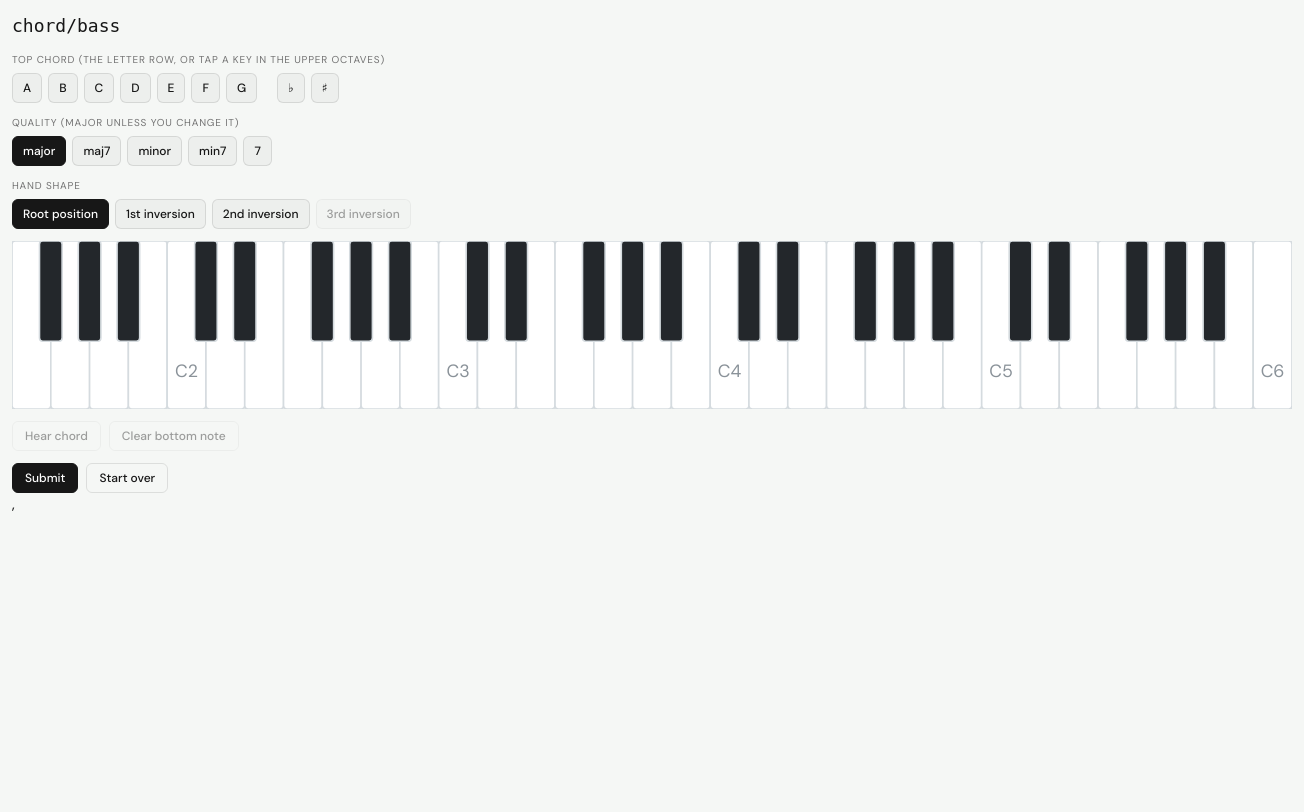
Test: the top chord comes first › starts on major, so the chord lights from one tap
Click the button "G" at (242, 88), box x1=226 y1=73 x2=257 y2=103
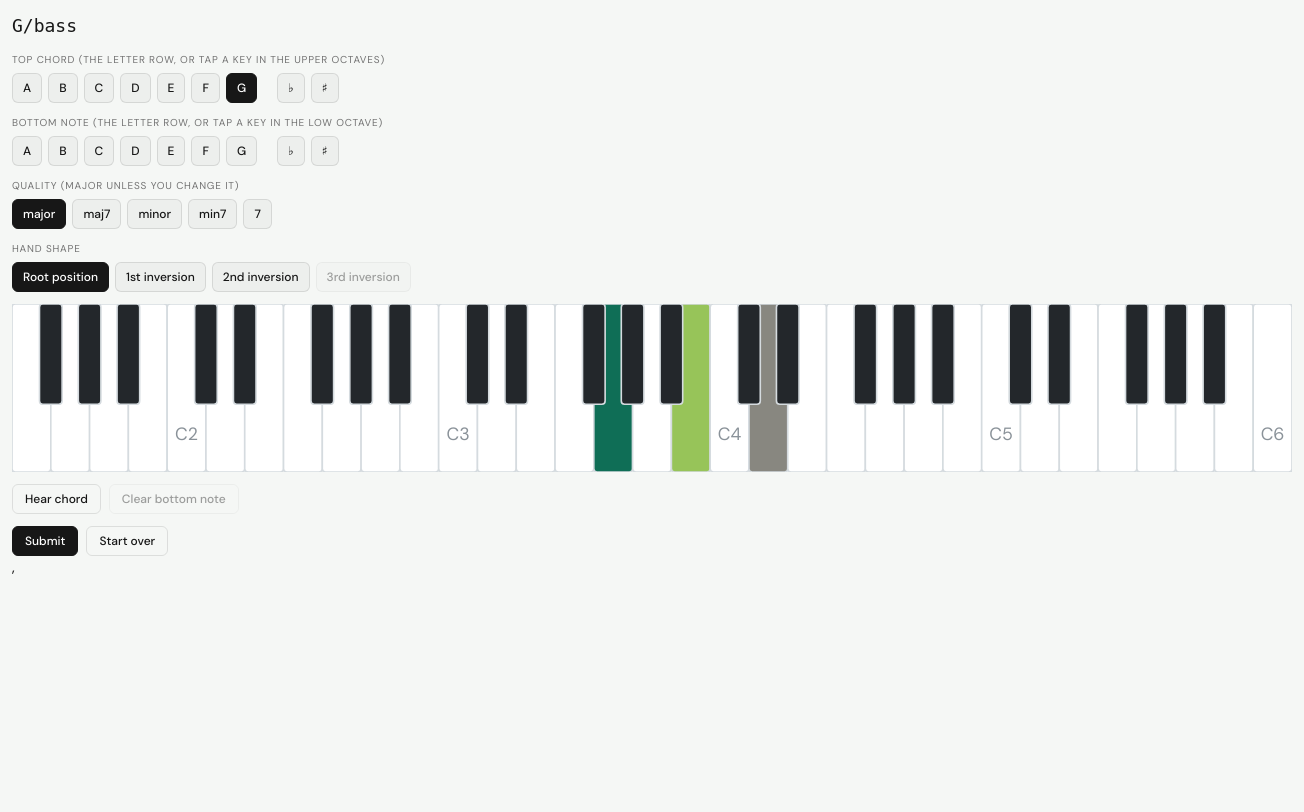
Result: the text "G/bass" is shown at x1=12 y1=15 x2=77 y2=36
